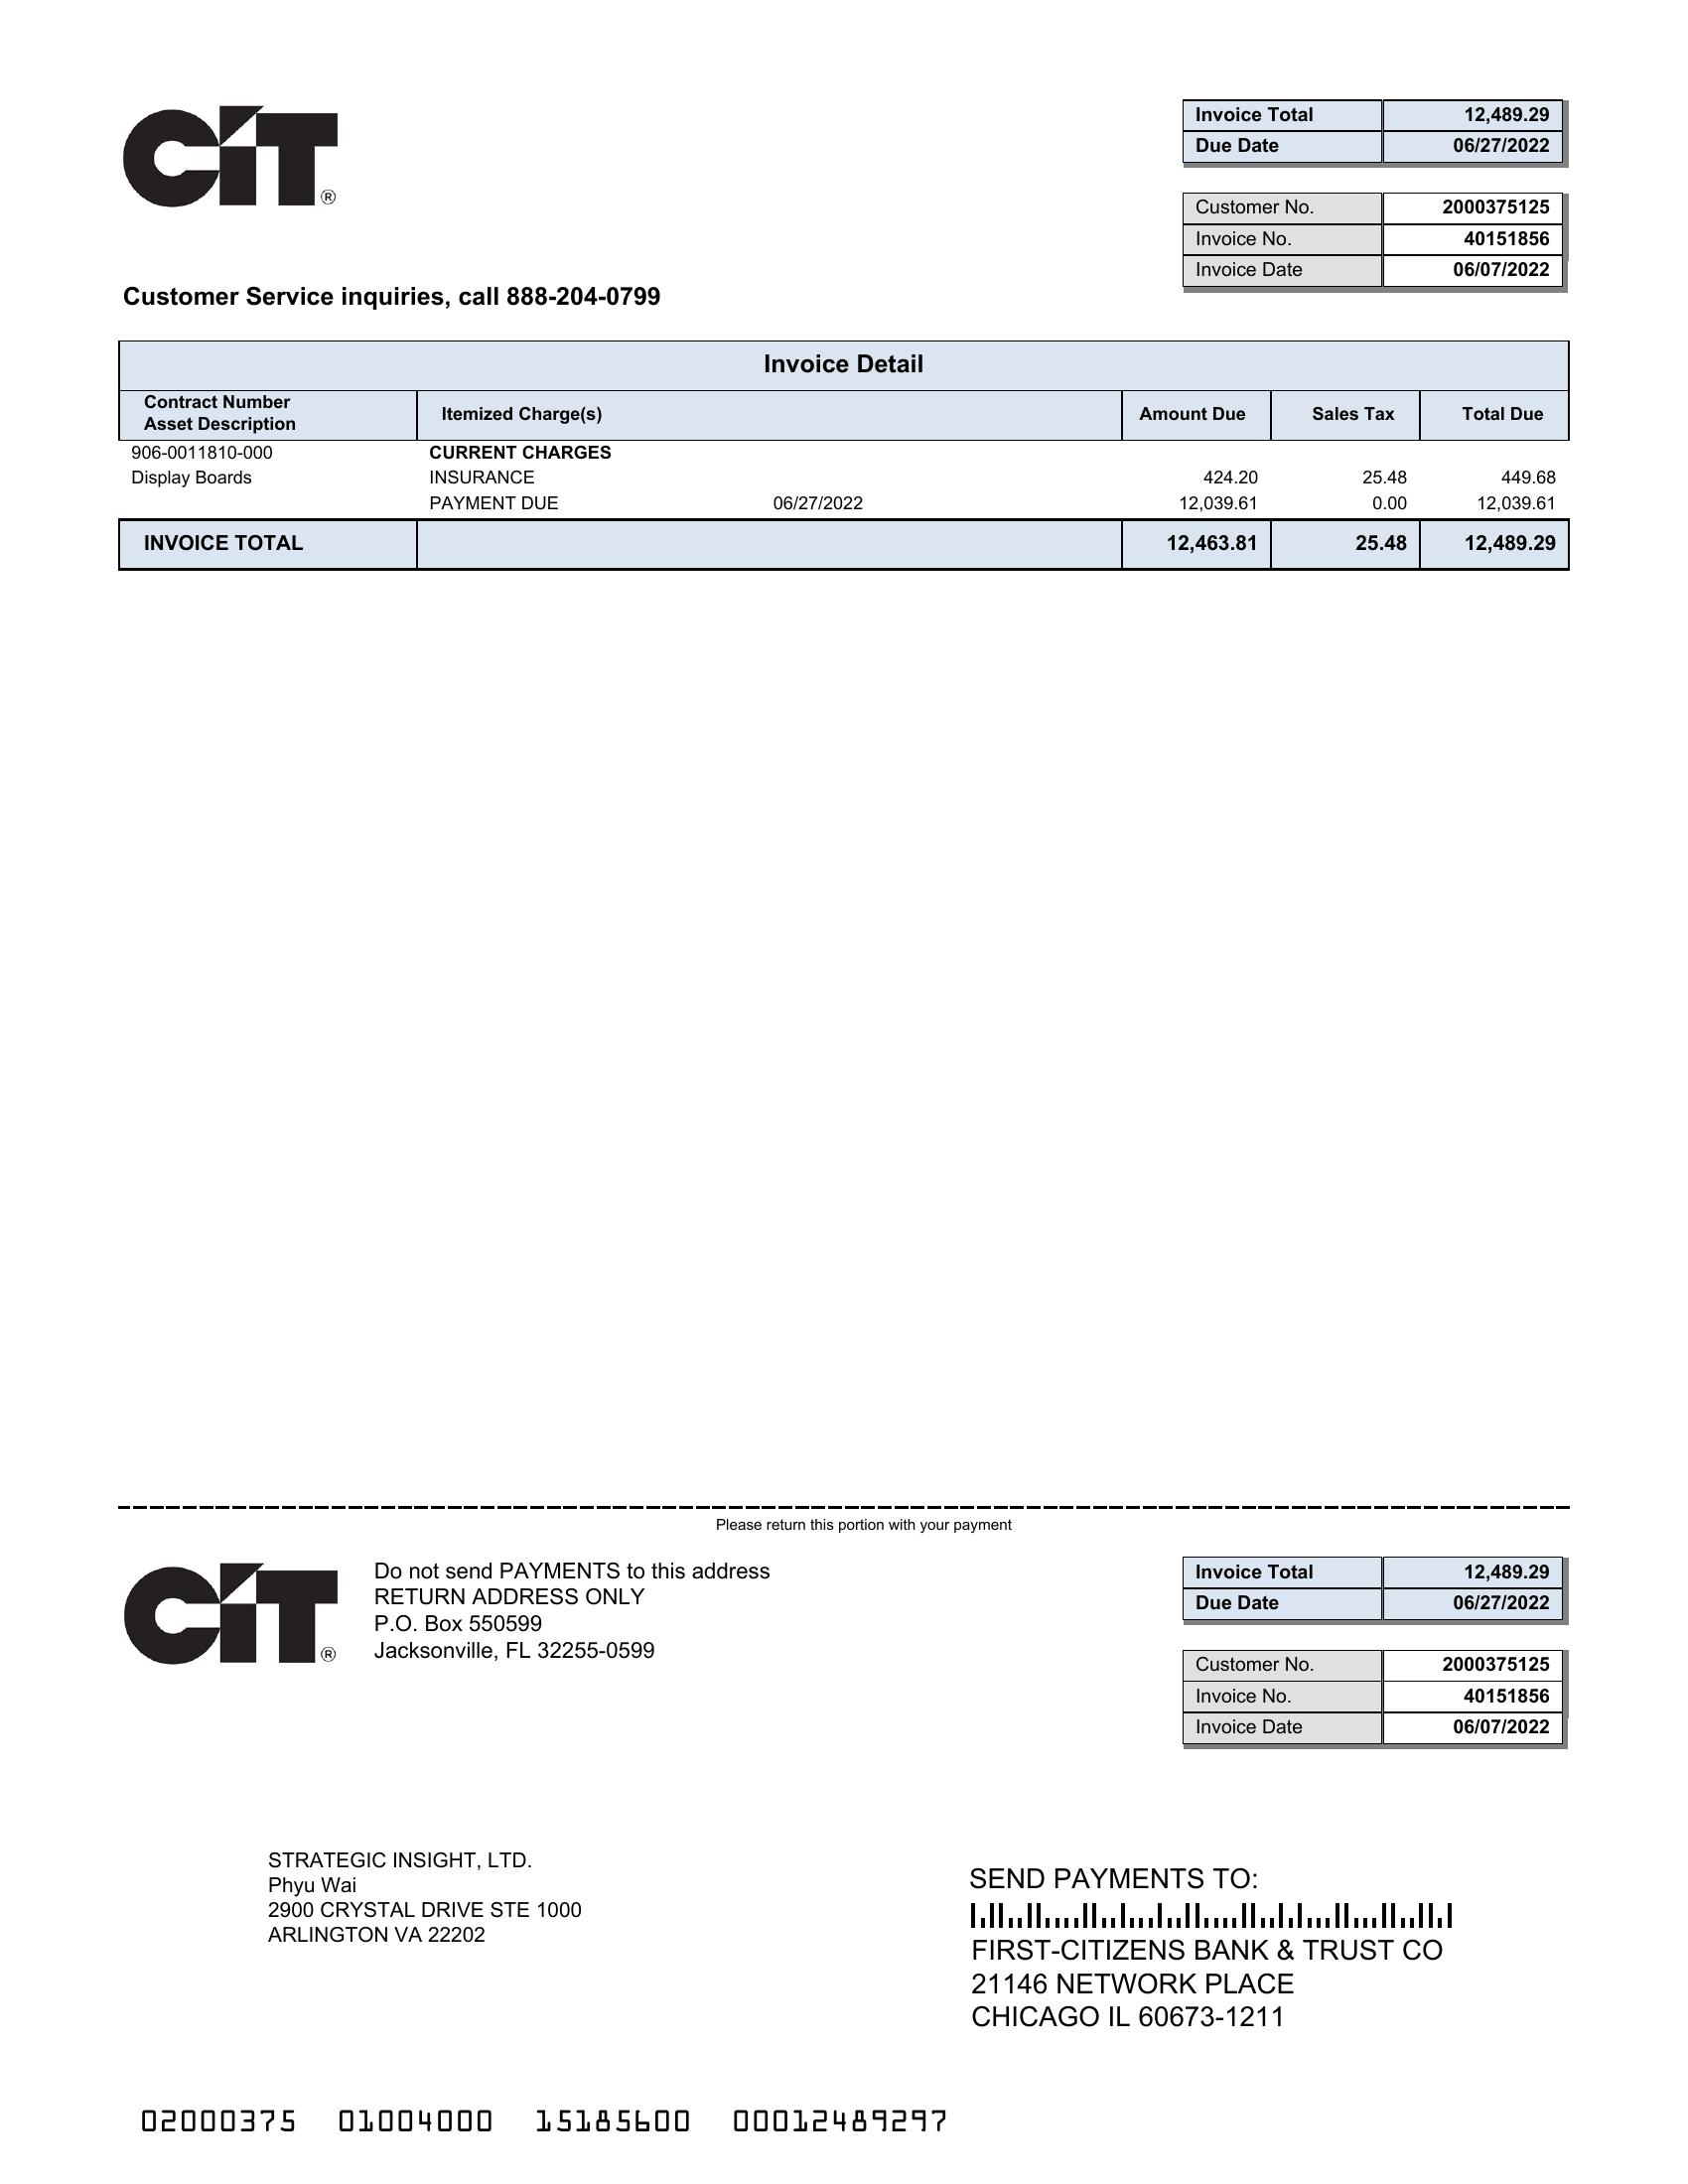table: (117, 392, 1585, 592), (1172, 193, 1585, 317), (1172, 1659, 1578, 1769), (1181, 1549, 1573, 1631), (1184, 96, 1580, 172)
